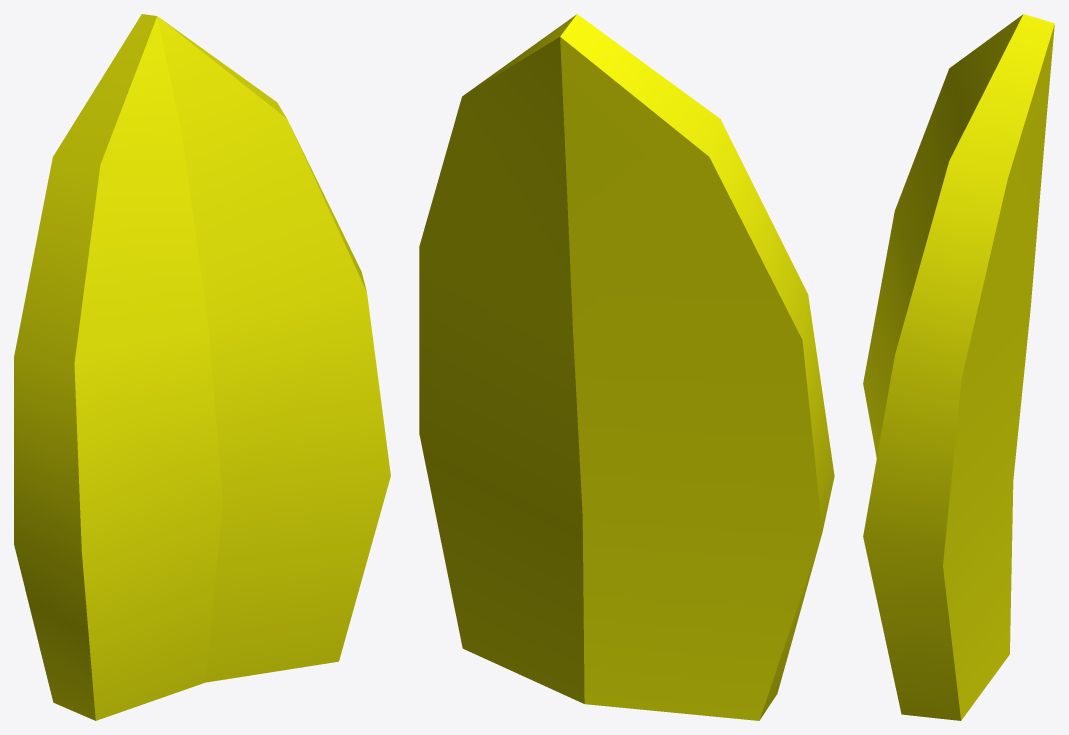
The model's file is kaykit-grass-1-a-color-1.glb.
3 renders of one model, left to right at view 1: azimuth 30°, elevation 25°; view 2: azimuth 150°, elevation 25°; view 3: azimuth 270°, elevation 25°, orthographic. The views are drawn at different scales.
Parts seen in each view (by area): view 1: Grass_1_A_Color1; view 2: Grass_1_A_Color1; view 3: Grass_1_A_Color1.
Part boxes in pixels (left/top/right/bottom): Grass_1_A_Color1: left=14, top=14, right=390, bottom=720; Grass_1_A_Color1: left=419, top=14, right=834, bottom=720; Grass_1_A_Color1: left=863, top=14, right=1054, bottom=720.
Bounding box in the file's own units: 0.3393 × 0.5593 × 0.1518.
